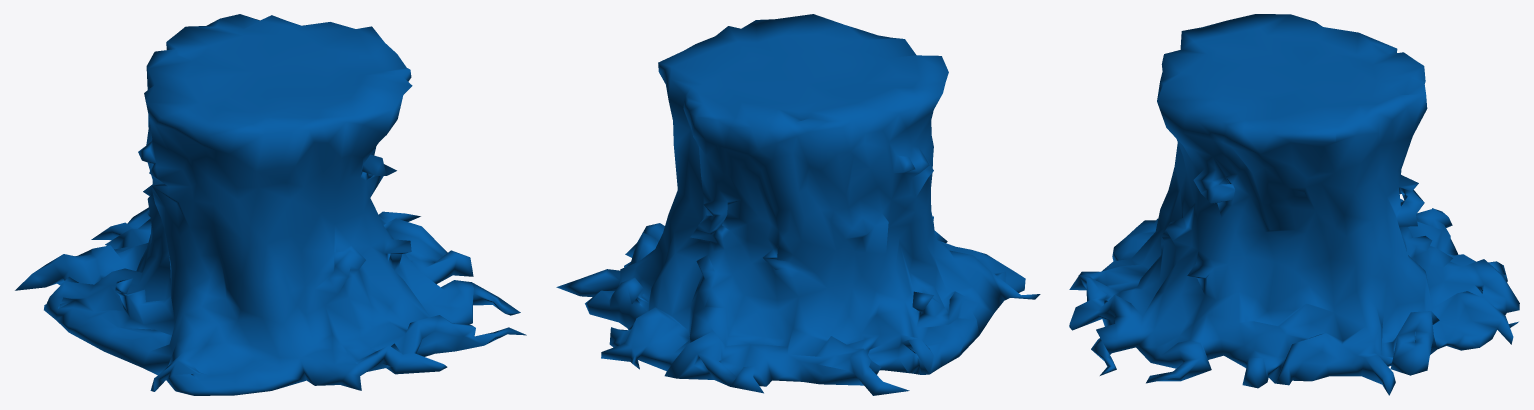
Rendered from stump_1.glb.
3 renders of one model, left to right at view 1: azimuth 30°, elevation 25°; view 2: azimuth 150°, elevation 25°; view 3: azimuth 270°, elevation 25°, orthographic. The views are drawn at different scales.
Visible parts, largest first — view 1: stump1_LOW_RES; view 2: stump1_LOW_RES; view 3: stump1_LOW_RES.
Part boxes in pixels (x1,y1,x2,y2): stump1_LOW_RES: (15, 14, 526, 395); stump1_LOW_RES: (556, 14, 1040, 395); stump1_LOW_RES: (1069, 14, 1519, 395).
Bounding box in the file's own units: 1.73 × 1 × 1.78.
Materials: 1 (1 with a texture image).
